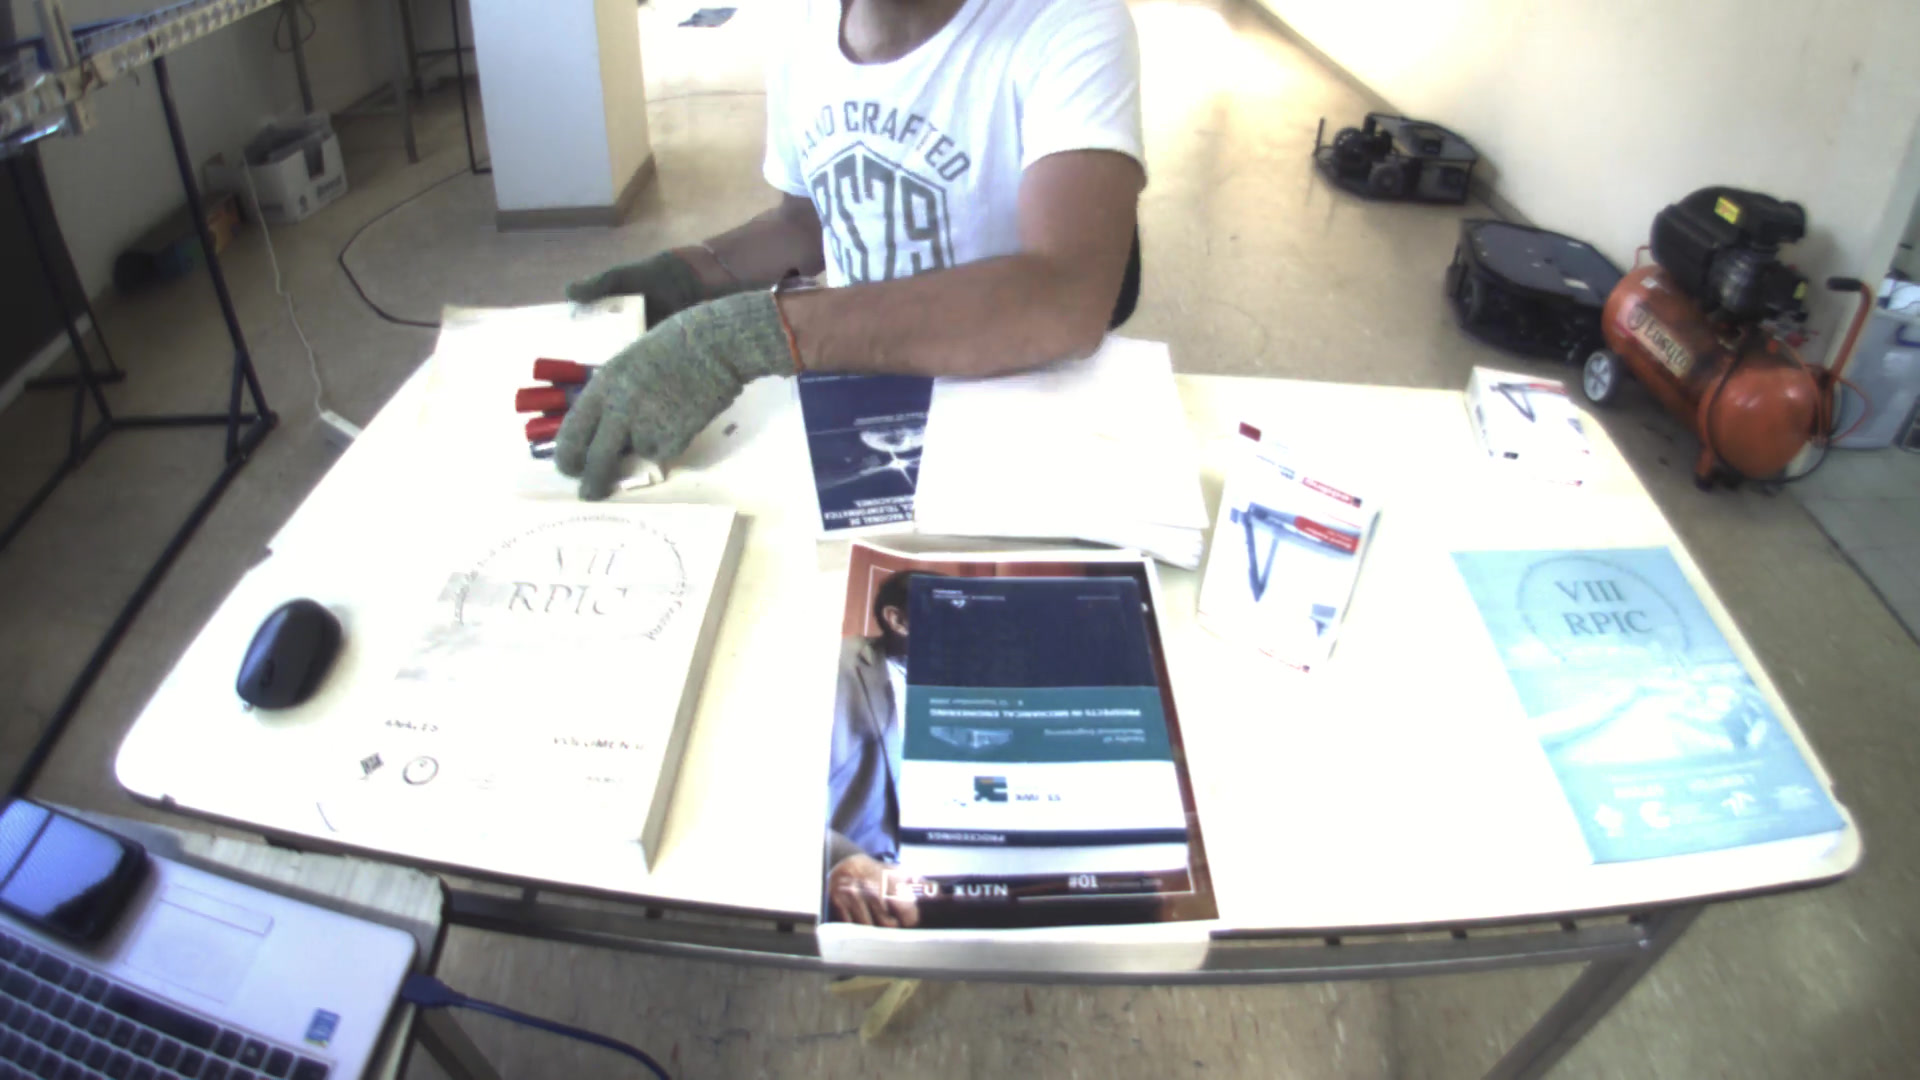hand: (531, 305, 783, 498)
